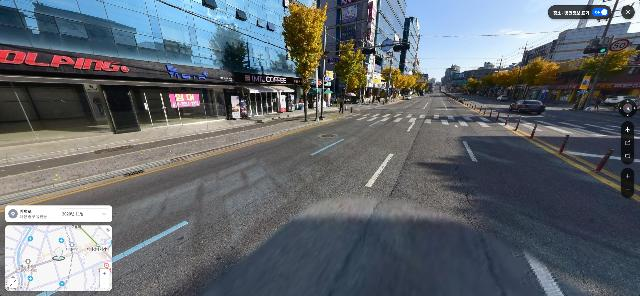ginkgo: (282, 1, 326, 122), (481, 57, 559, 100), (335, 39, 363, 105), (519, 56, 559, 100), (495, 65, 527, 97), (396, 68, 429, 99), (352, 54, 369, 103), (380, 66, 399, 103), (487, 70, 509, 97), (408, 72, 427, 98), (390, 68, 404, 101), (466, 78, 480, 95), (416, 78, 428, 96), (404, 75, 413, 97)
